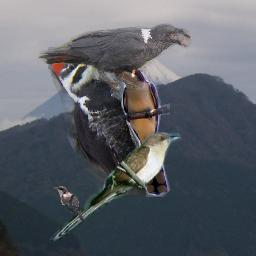Crow: (37, 22, 193, 94)
Cuckoo: (49, 131, 184, 245), (104, 64, 170, 197), (53, 185, 84, 223)
Woodpecker: (48, 47, 146, 195)
